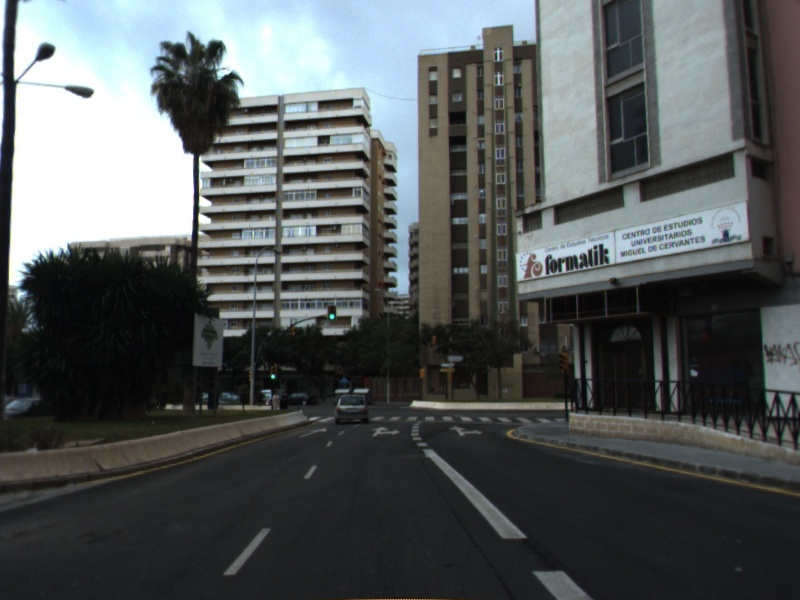STRAIGHT: (296, 425, 328, 440)
STRAIGHT_RIGHT: (447, 423, 486, 438), (368, 424, 403, 439)
